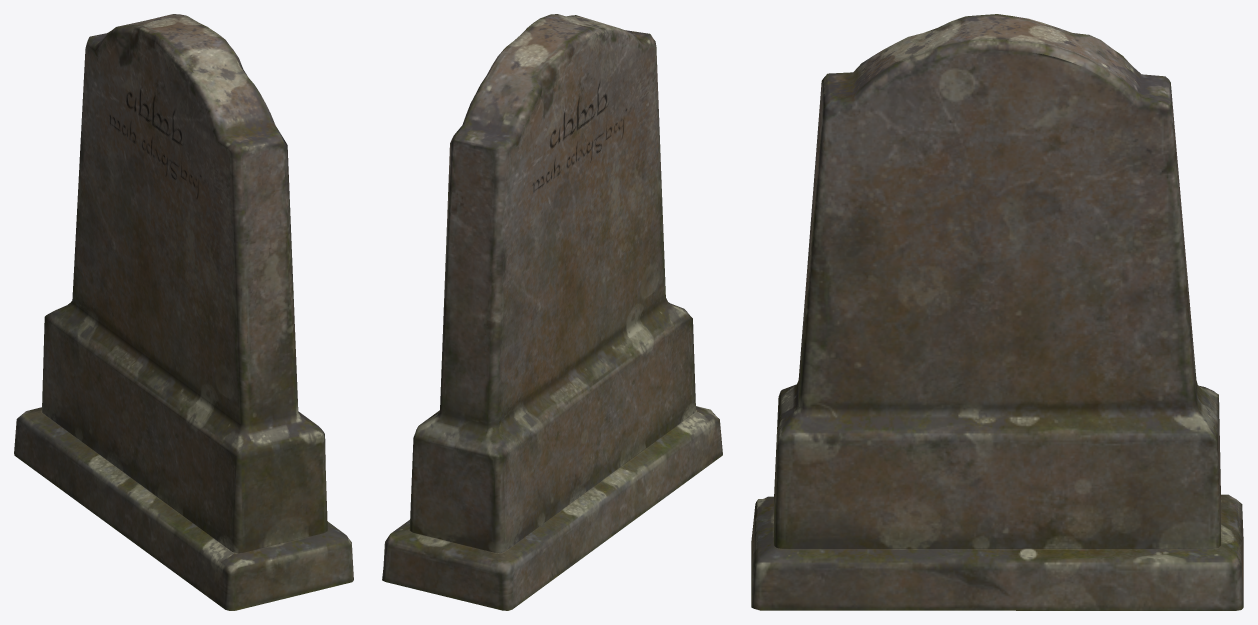
File: SM_TombsC_003.fbx
3 views of the same model, side by side, from view 1: azimuth 30°, elevation 25°; view 2: azimuth 150°, elevation 25°; view 3: azimuth 270°, elevation 25° (orthographic). The views are drawn at different scales.
Visible parts, largest first — view 1: SM_TombsC_003_LOD0; view 2: SM_TombsC_003_LOD0; view 3: SM_TombsC_003_LOD0.
Part boxes in pixels (x1,y1,x2,y2): SM_TombsC_003_LOD0: [14, 14, 353, 610]; SM_TombsC_003_LOD0: [382, 14, 722, 610]; SM_TombsC_003_LOD0: [751, 14, 1243, 610].
Size of the model in its own units: 26.01 by 75.68 by 93.04.
1 material, 1 textured.
